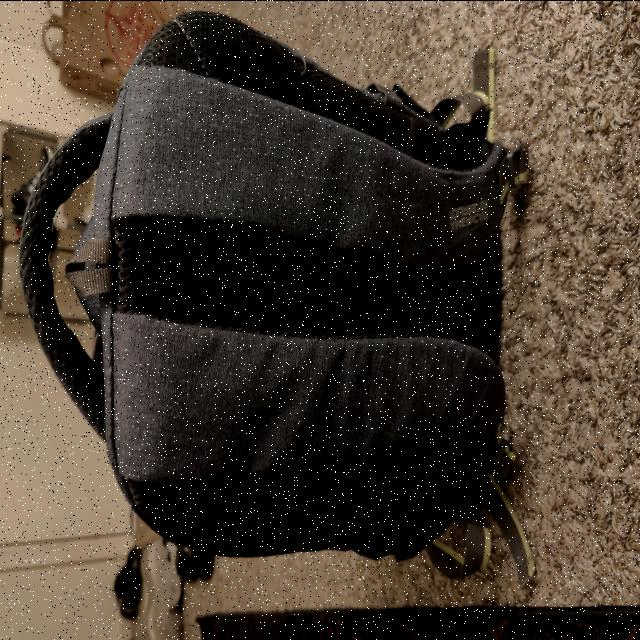bag: (23, 14, 495, 536)
